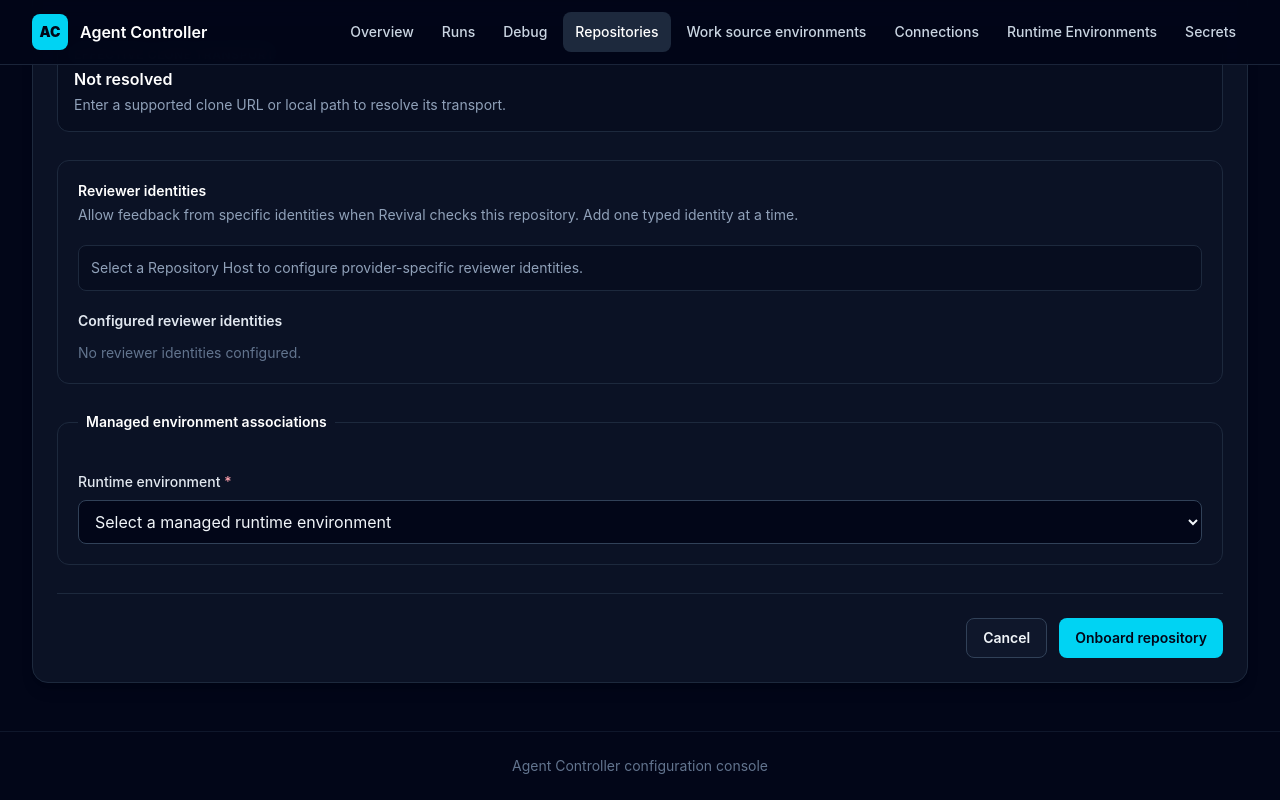
Test: repository onboarding screens › validates required fields before submitting
(page scrolled)
Click the button "Onboard repository".
click(1141, 638)  # box [1059, 618, 1223, 658]
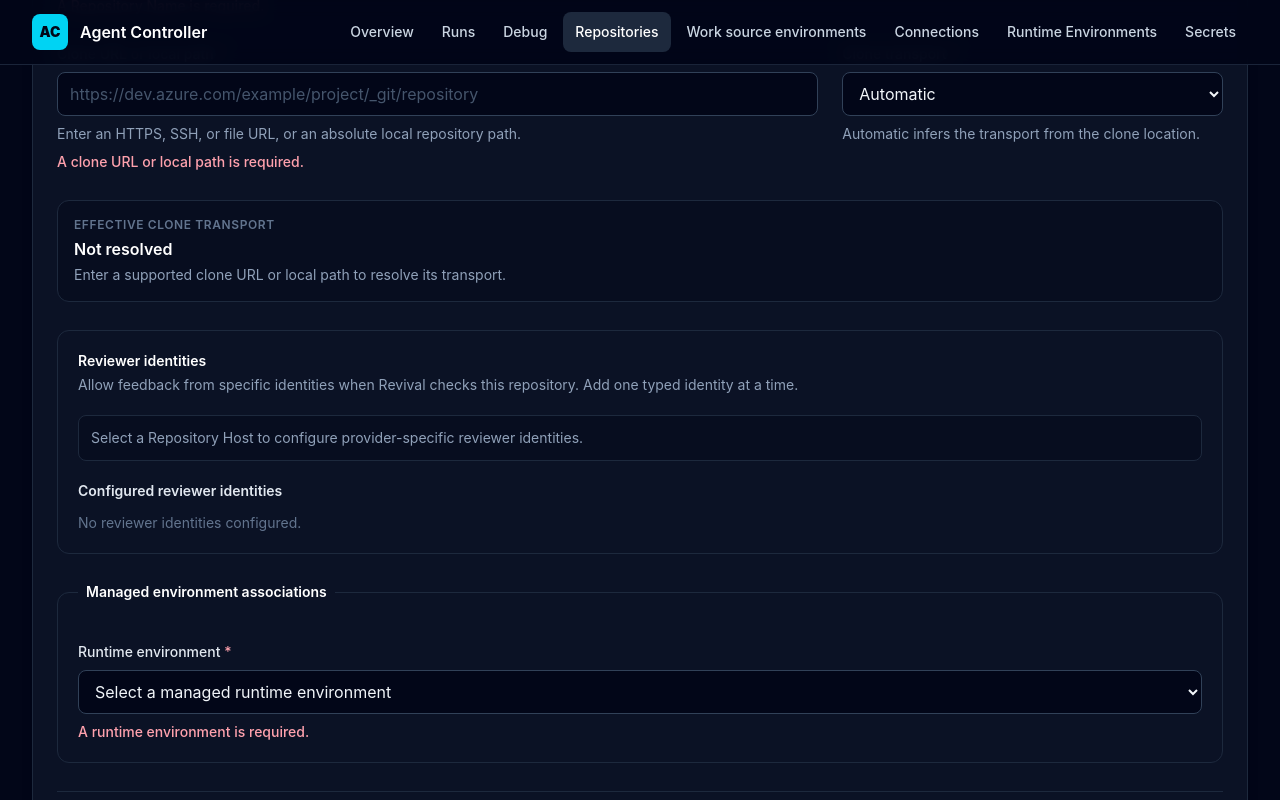
Expected: the text "A clone URL or local path is required." is shown, [57, 153, 304, 170]
Expected: the text "A runtime environment is required." is shown, [78, 723, 309, 740]
